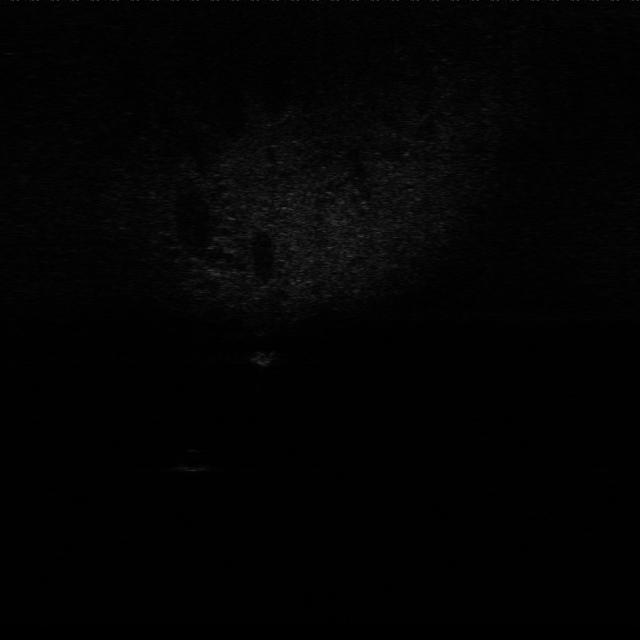ball: (178, 447, 214, 474)
cube: (252, 346, 280, 368)
